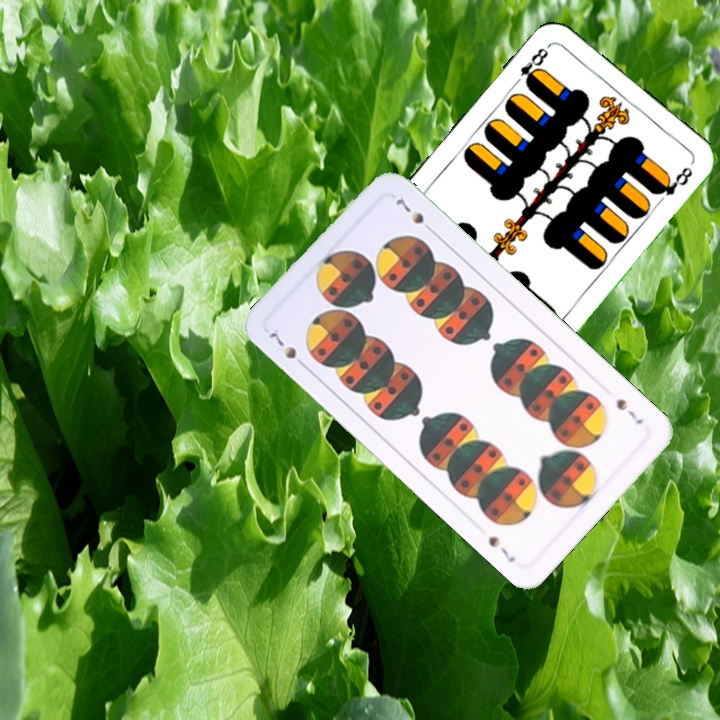E8: (509, 41, 553, 90)
S7: (265, 325, 310, 372), (612, 394, 646, 427)
